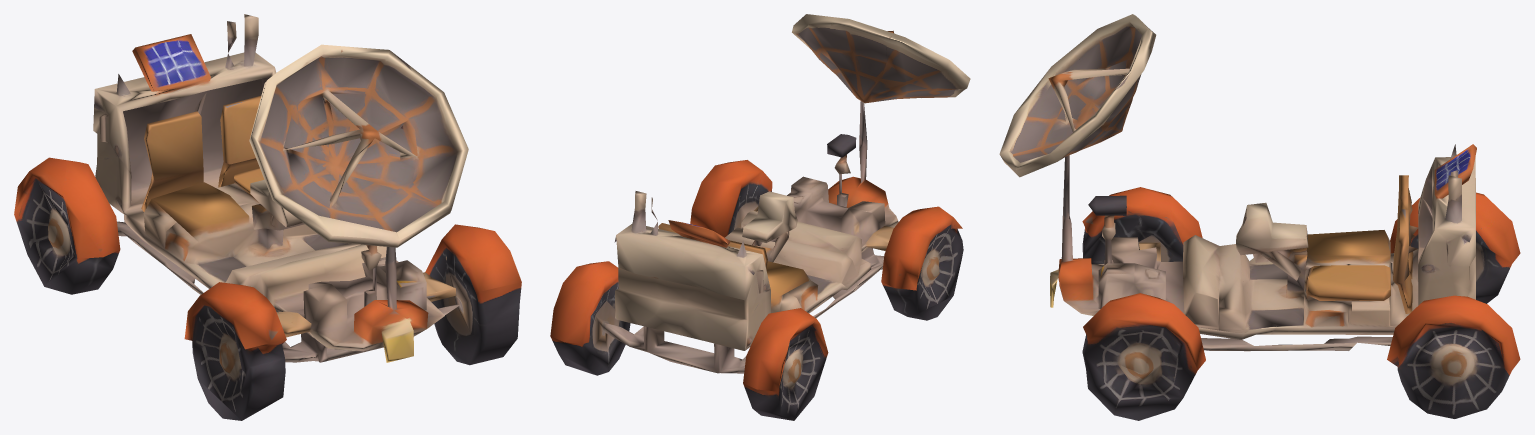
The model's file is antena_rover.glb.
3 views of the same model, side by side, from view 1: azimuth 30°, elevation 25°; view 2: azimuth 150°, elevation 25°; view 3: azimuth 270°, elevation 25° (orthographic). The views are drawn at different scales.
Parts seen in each view (by area): view 1: tripo_node_04f05e03-7e09-49e9-b8d6-3a521970ab39; view 2: tripo_node_04f05e03-7e09-49e9-b8d6-3a521970ab39; view 3: tripo_node_04f05e03-7e09-49e9-b8d6-3a521970ab39.
Part boxes in pixels (x1,y1,x2,y2): tripo_node_04f05e03-7e09-49e9-b8d6-3a521970ab39: [14, 14, 521, 420]; tripo_node_04f05e03-7e09-49e9-b8d6-3a521970ab39: [550, 14, 970, 420]; tripo_node_04f05e03-7e09-49e9-b8d6-3a521970ab39: [999, 14, 1520, 420].
Size of the model in its own units: 0.5615 by 0.6603 by 0.9794.
Materials: 1 (1 with a texture image).
